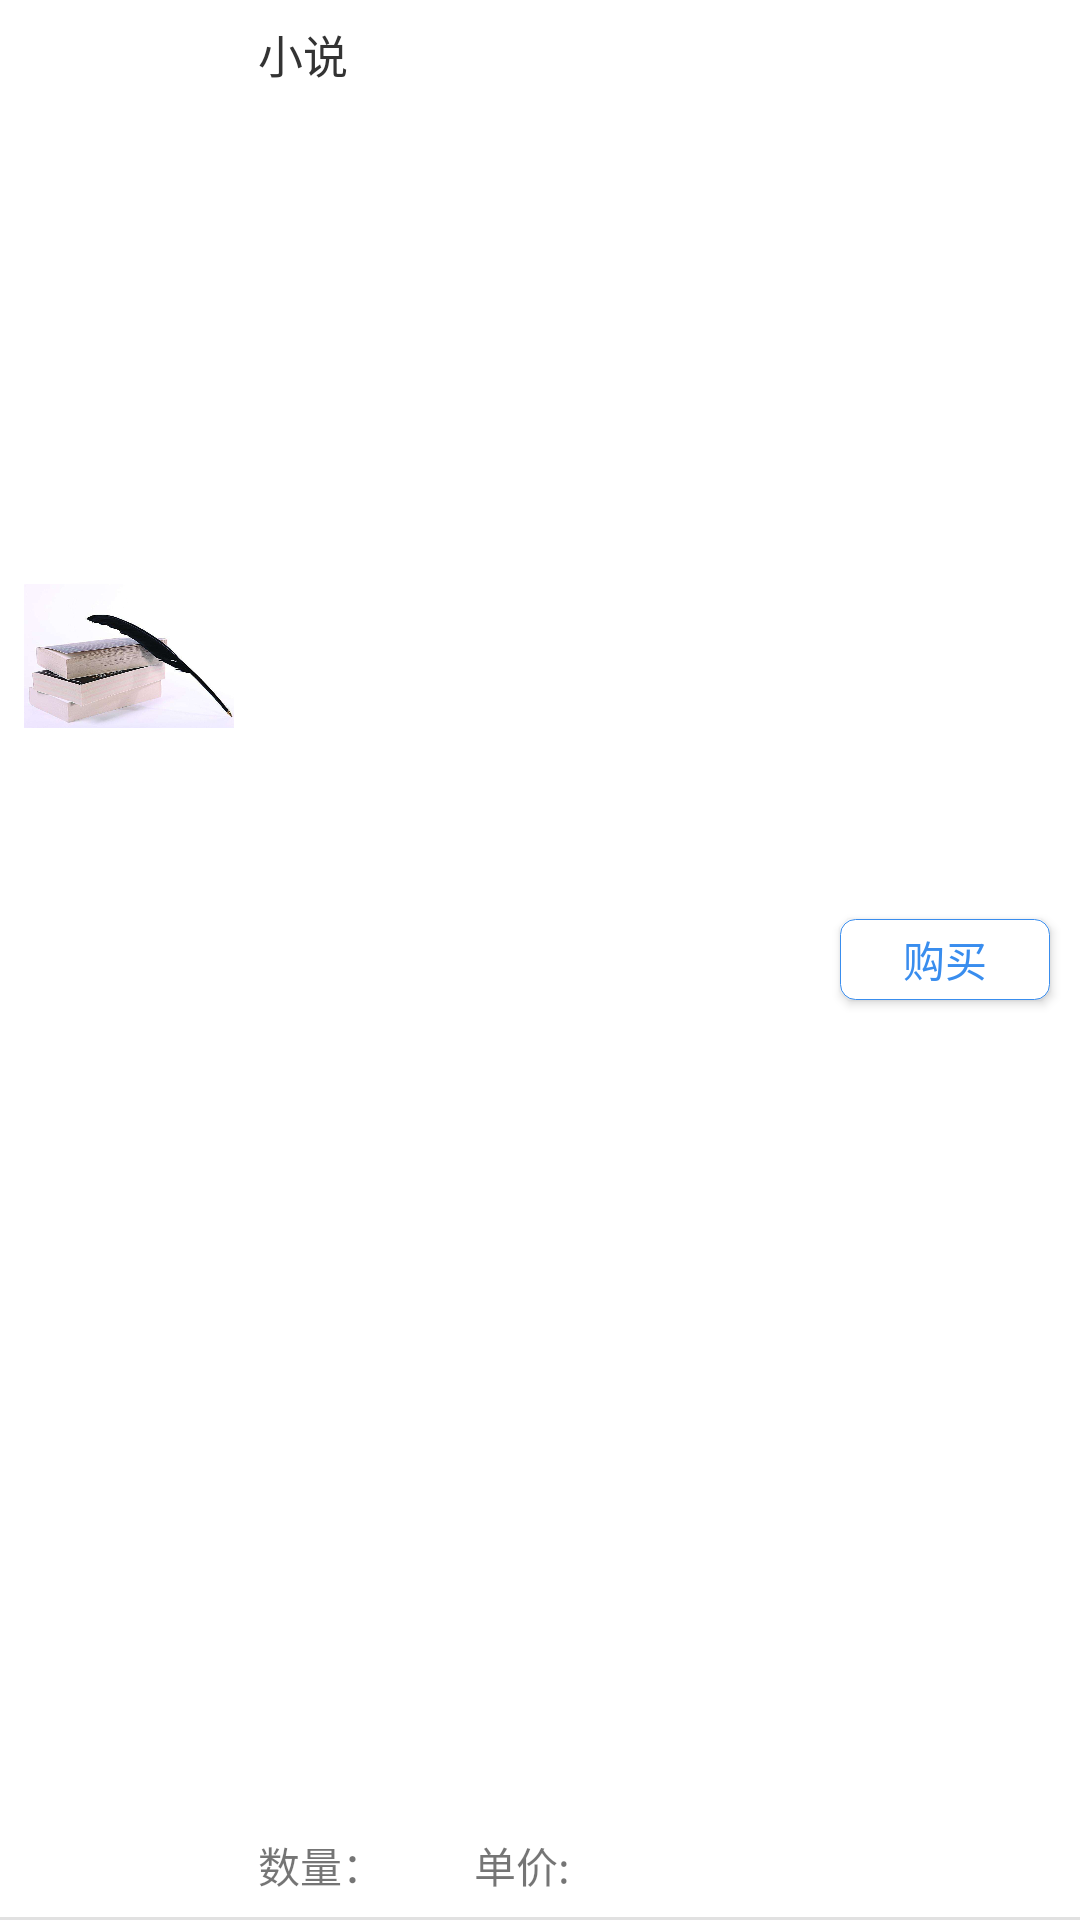

Icons on this 1080×1920 Android screen, each with its box as [left=x1, top=y1, right=x2, bottom=y2]:
book: [left=24, top=615, right=233, bottom=728]
